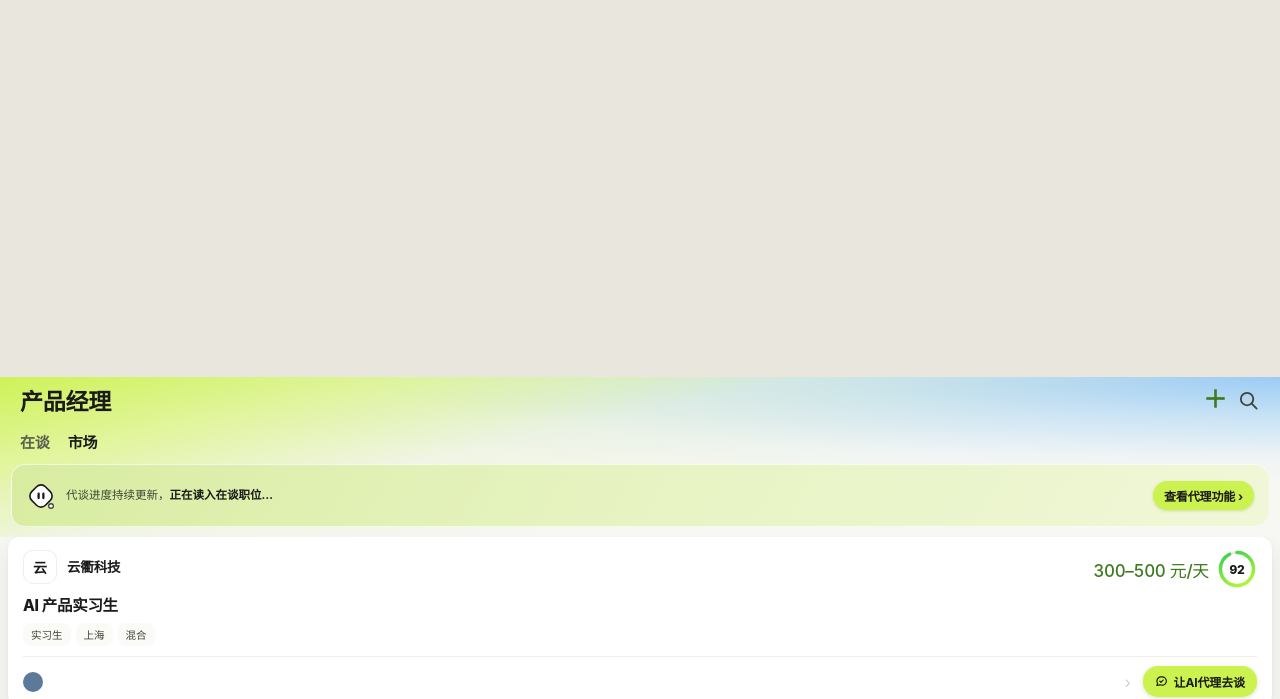
Scenario: 看市场 · P4 候选发现（Backend） › 本地搜索只在已加载卡上过滤
The image size is (1280, 699).
(page scrolled)
Expected: the text "AI 产品实习生" is shown, [23,596,118,615]
Click the button named "搜索职位" at x=1248, y=400, box [1237,388,1260,412]
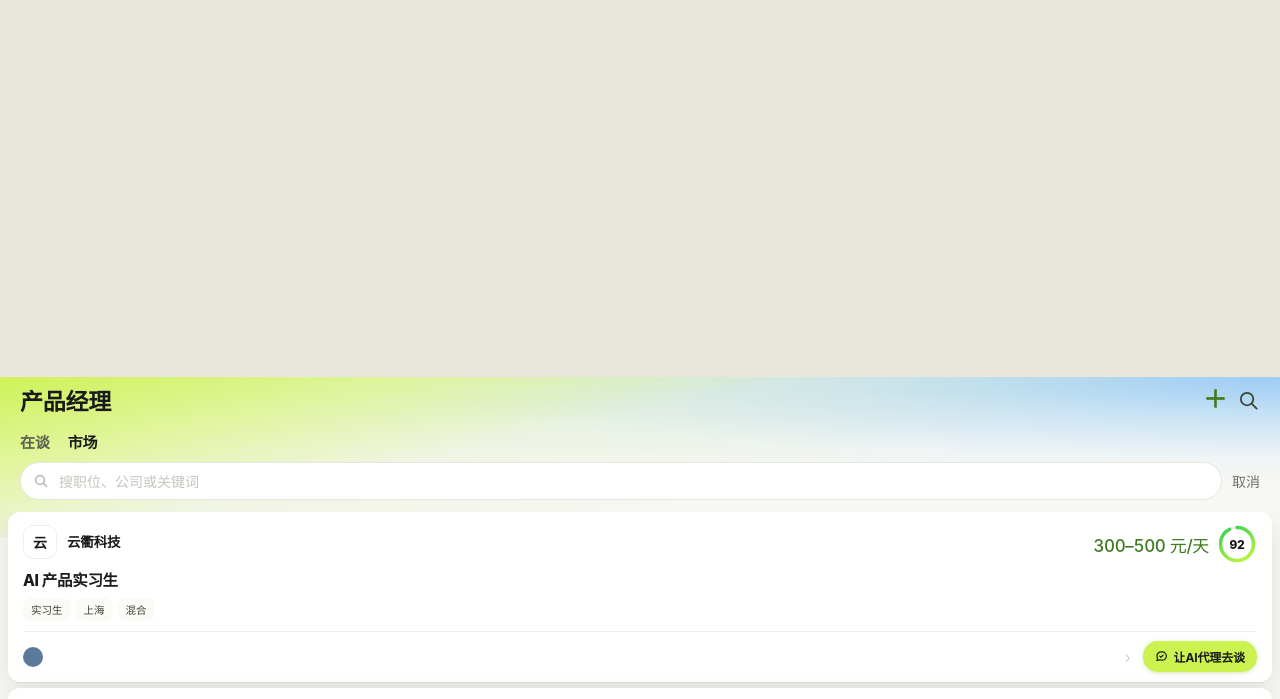
Type "数据" into the field with placeholder "搜职位、公司或关键词" at x=633, y=481, box [57,472,1209,490]
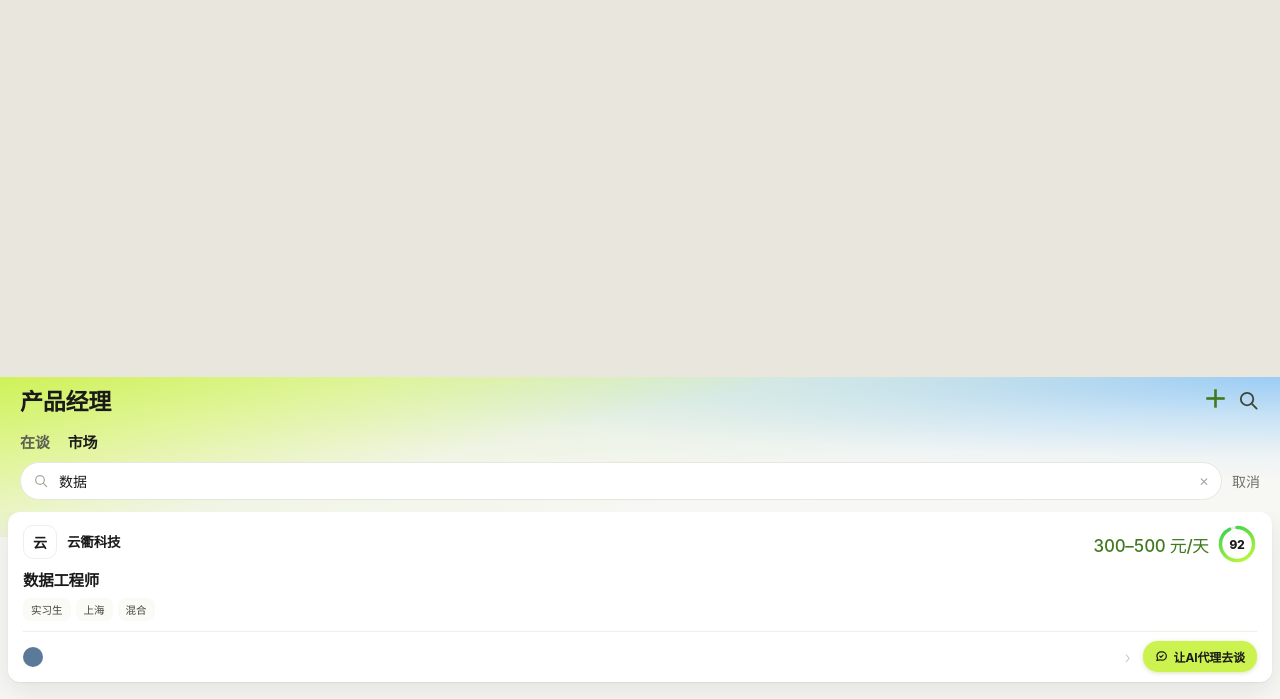
Expected: the text "数据工程师" is shown, [23,571,99,590]
Result: the button "AI 产品实习生" is gone
